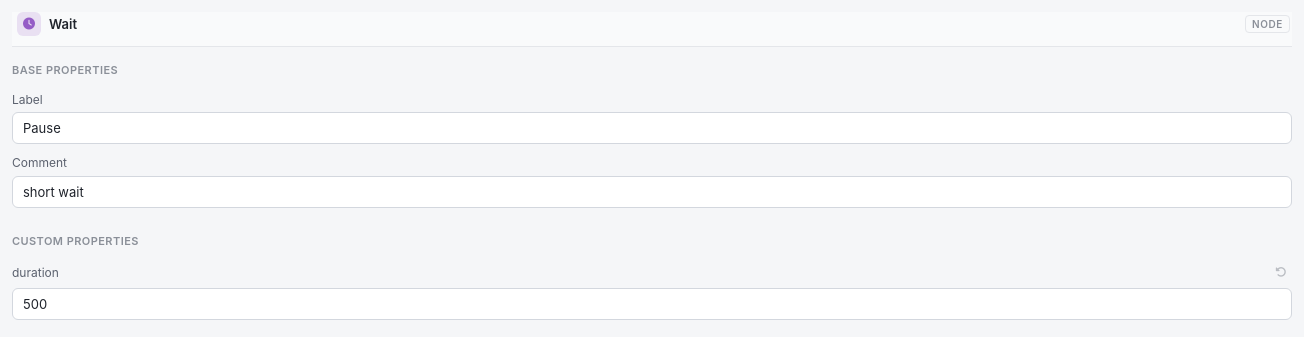
Test: PropertyPanel › commits a label as one undoable change and re-syncs the input on undo
Replace the text in the field labelled "Label" with "Renamed". click: (652, 128)
box: [12,112,1292,144]
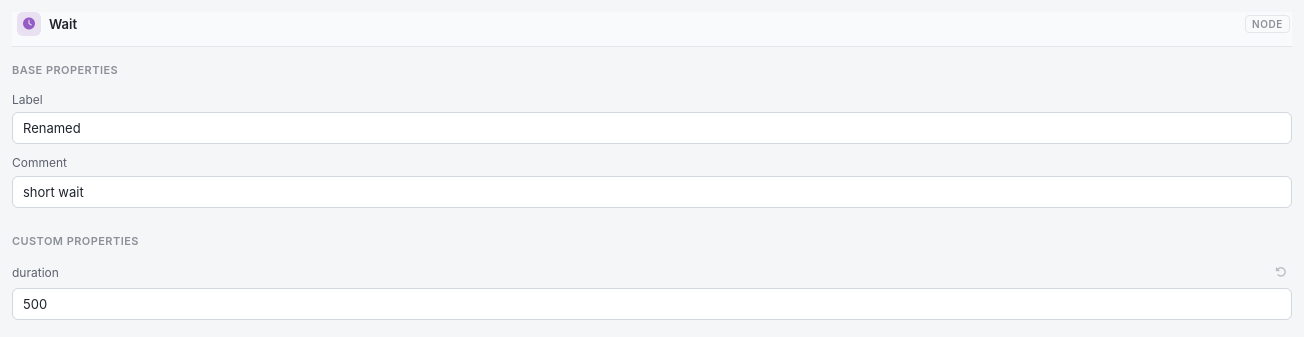
Leave the field labelled "Label", box [12,112,1292,144]
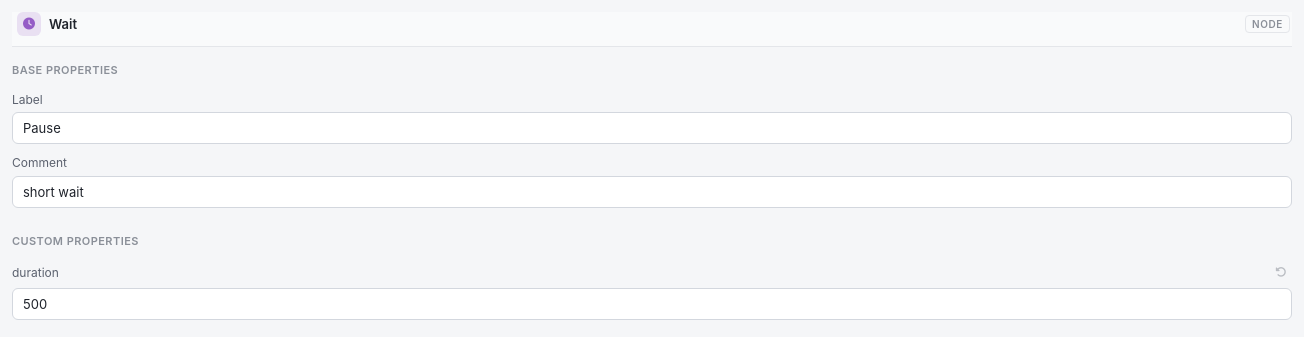
Check: the field labelled "Label" holds "Pause", box [12,112,1292,144]
